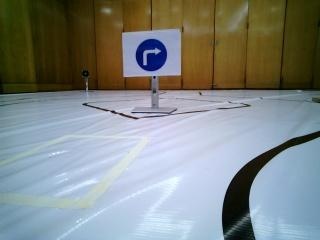right: (121, 33, 181, 78)
